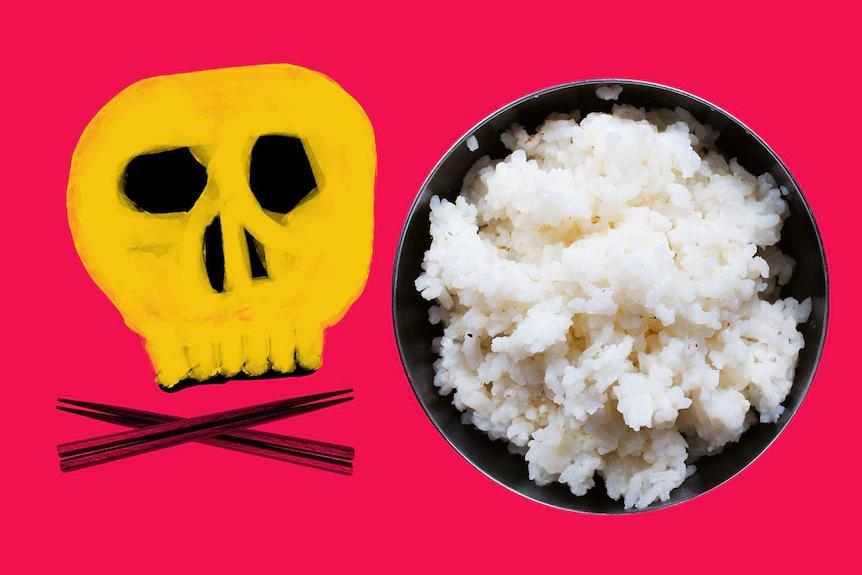rice: (428, 112, 800, 486)
